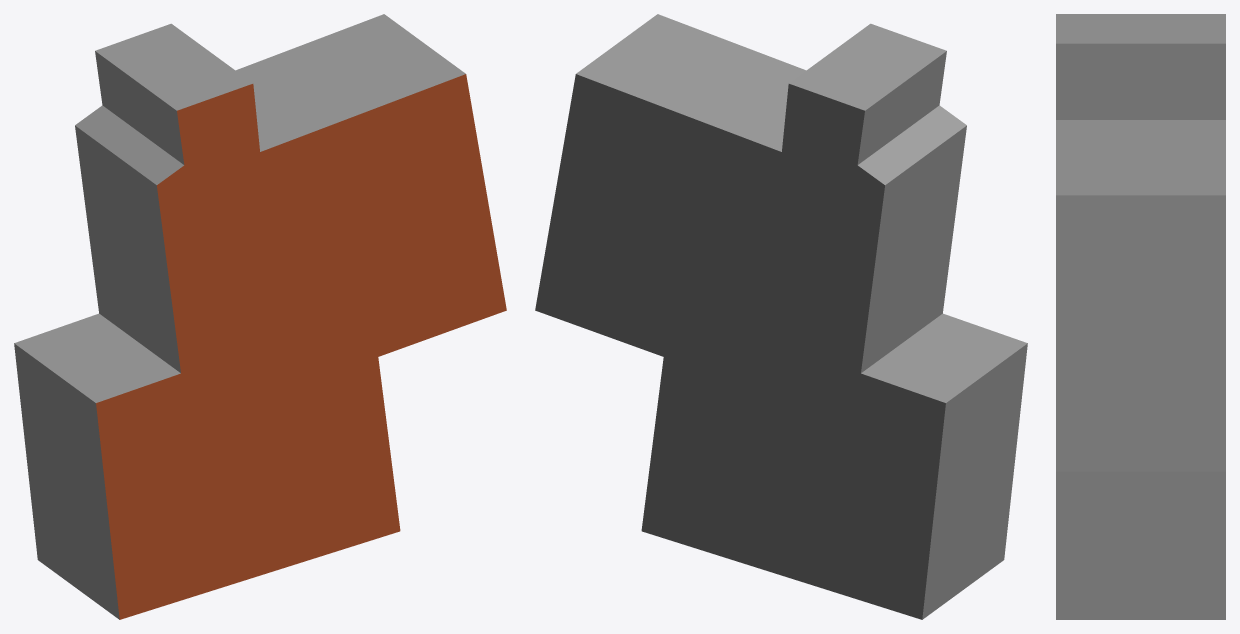
The model's file is construction_1146_assumed_A_Casa_h6m.obj.
The picture shows the model from 3 angles, left to right: view 1: azimuth 30°, elevation 25°; view 2: azimuth 150°, elevation 25°; view 3: azimuth 270°, elevation 25°; orthographic projection. The views are drawn at different scales.
Visible parts, largest first — view 1: construction_1146_assumed_A_Casa; view 2: construction_1146_assumed_A_Casa; view 3: construction_1146_assumed_A_Casa.
Part boxes in pixels (x1,y1,x2,y2): construction_1146_assumed_A_Casa: (14, 14, 506, 619); construction_1146_assumed_A_Casa: (535, 14, 1027, 619); construction_1146_assumed_A_Casa: (1056, 14, 1225, 619).
Bounding box in the file's own units: 17.37 × 20.36 × 6.
